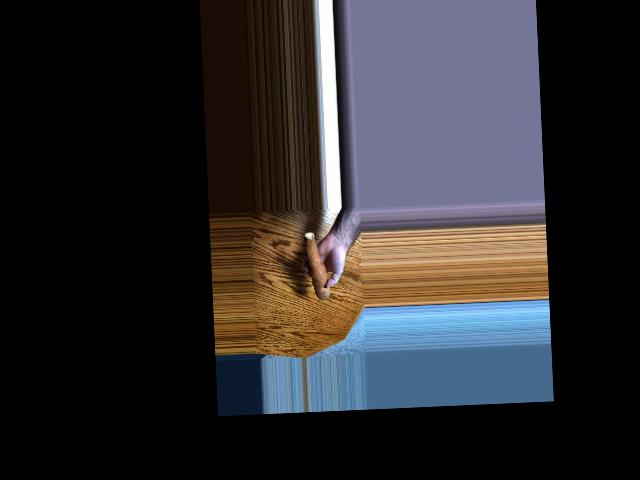sweet_potato: (305, 228, 326, 304)
